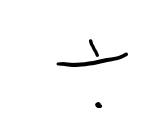div: (54, 37, 131, 111)
